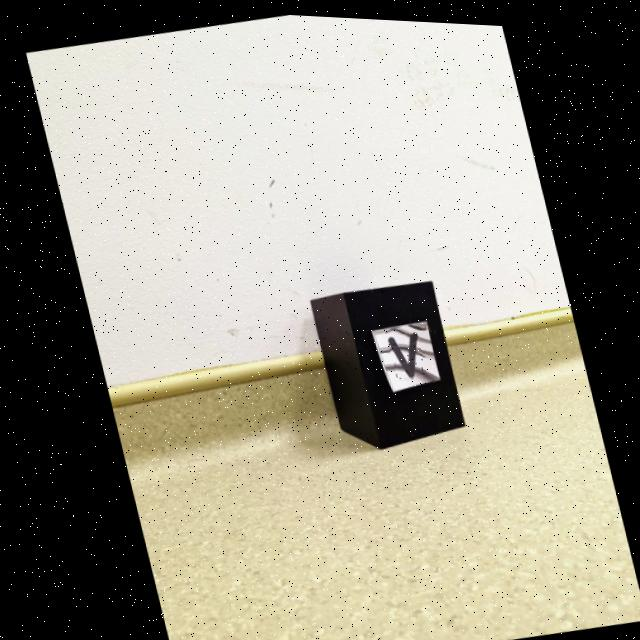V: (384, 329, 415, 374)
